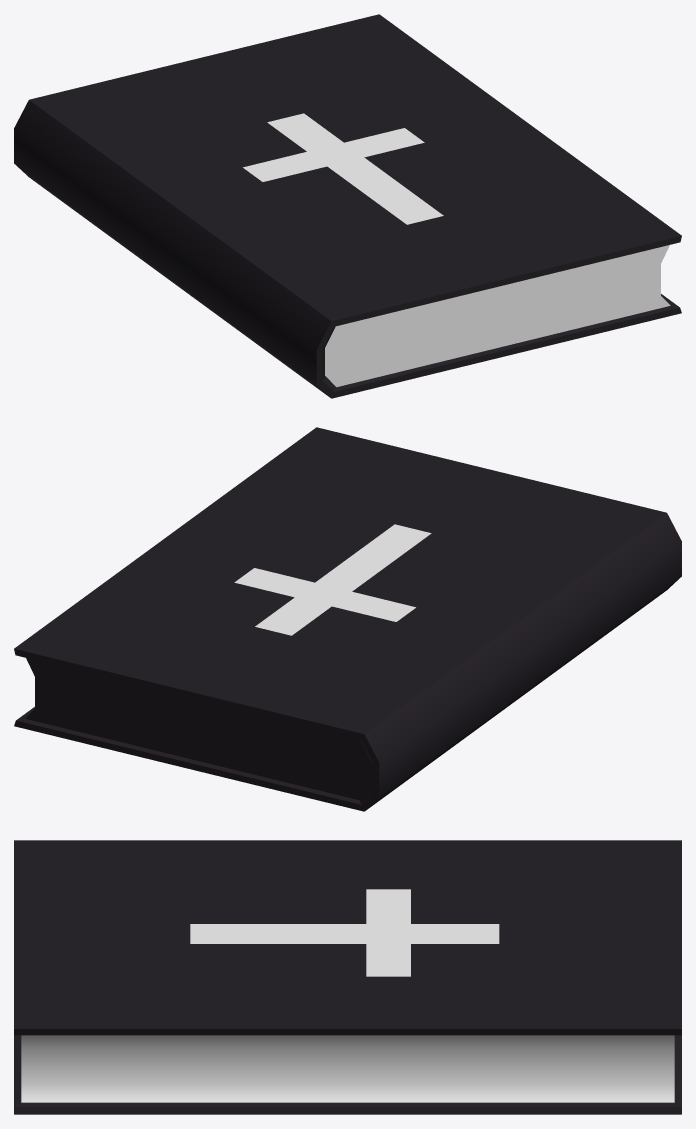
File: PT_Bible_closed_01.fbx
The picture shows the model from 3 angles, top to bottom: view 1: azimuth 30°, elevation 25°; view 2: azimuth 150°, elevation 25°; view 3: azimuth 270°, elevation 25°; orthographic projection. The views are drawn at different scales.
Parts seen in each view (by area): view 1: PT_Bible_closed; view 2: PT_Bible_closed; view 3: PT_Bible_closed.
Part boxes in pixels (x1=…): PT_Bible_closed: x1=14, y1=14, x2=681, y2=398; PT_Bible_closed: x1=14, y1=427, x2=681, y2=811; PT_Bible_closed: x1=14, y1=840, x2=681, y2=1114.
Bounding box in the file's own units: 18.51 × 3.75 × 26.56.
